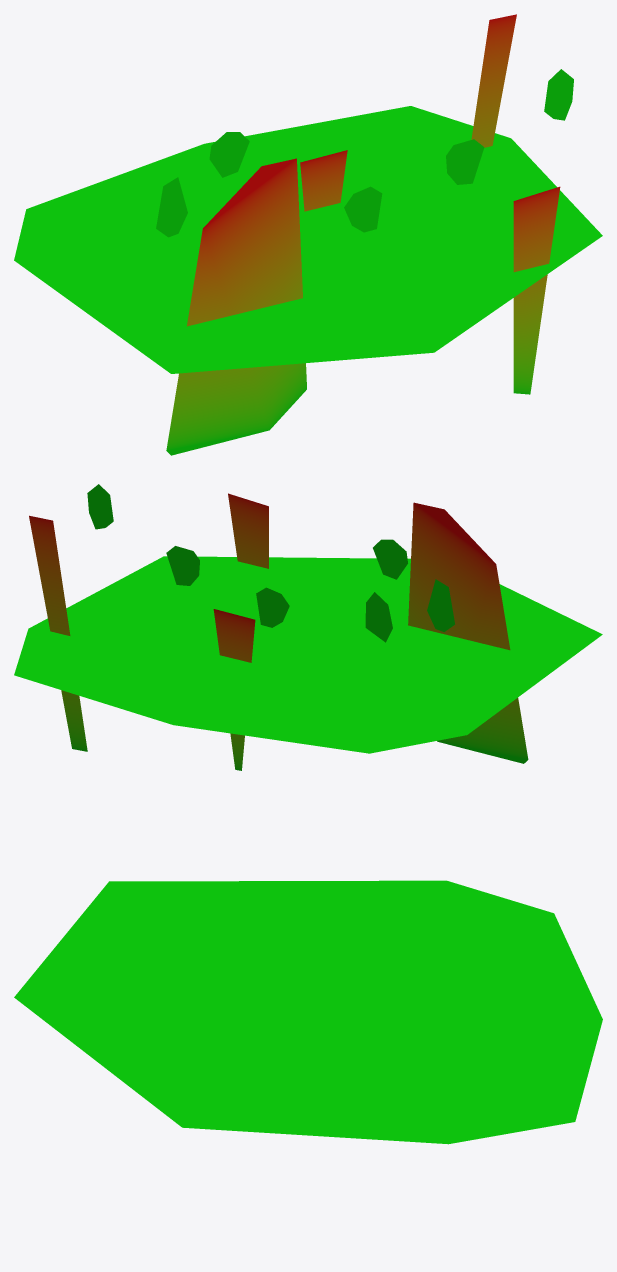
File: Var3_LOD3.fbx
The picture shows the model from 3 angles, top to bottom: view 1: azimuth 30°, elevation 25°; view 2: azimuth 150°, elevation 25°; view 3: azimuth 270°, elevation 25°; orthographic projection. The views are drawn at different scales.
Visible parts, largest first — view 1: _0db8_Var3_LOD3; view 2: _0db8_Var3_LOD3; view 3: _0db8_Var3_LOD3.
Part boxes in pixels (x1=…): _0db8_Var3_LOD3: x1=14, y1=14, x2=602, y2=455; _0db8_Var3_LOD3: x1=14, y1=484, x2=602, y2=770; _0db8_Var3_LOD3: x1=14, y1=880, x2=602, y2=1144.
Bounding box in the file's own units: 142 × 73.26 × 134.
